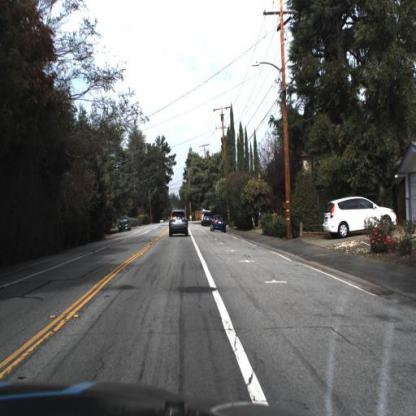car: (320, 189, 400, 240), (166, 204, 193, 240), (115, 211, 136, 238), (210, 211, 228, 239), (118, 216, 131, 235), (202, 211, 214, 229)
